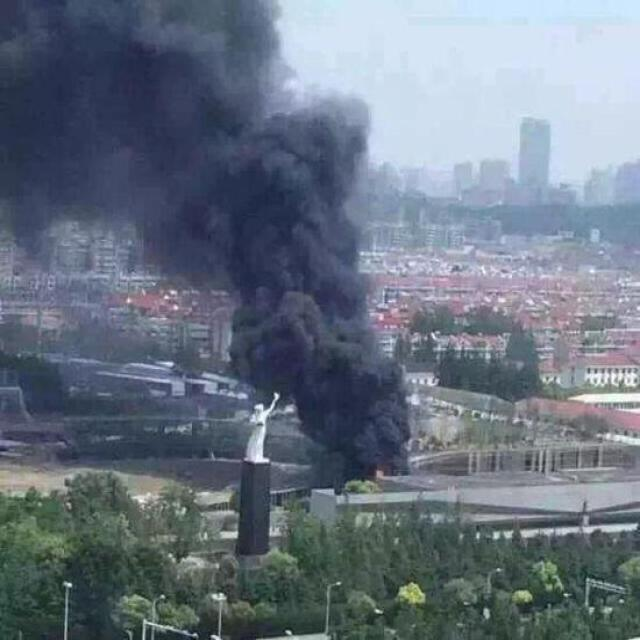Smoke: (0, 7, 407, 480)
